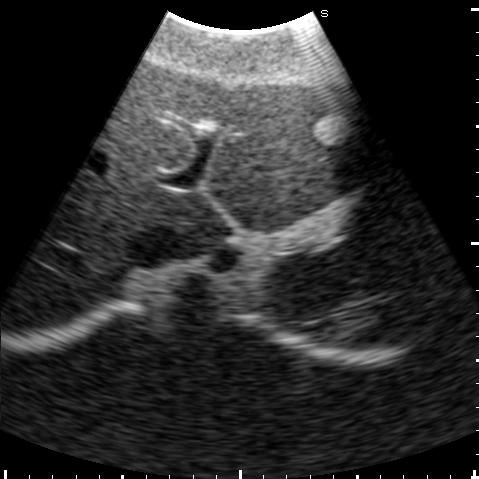IVC: (120, 226, 194, 267)
S1: (171, 194, 236, 252)
S2: (208, 152, 399, 235)
S3: (206, 83, 392, 198)
Tumor: (314, 114, 350, 145)
